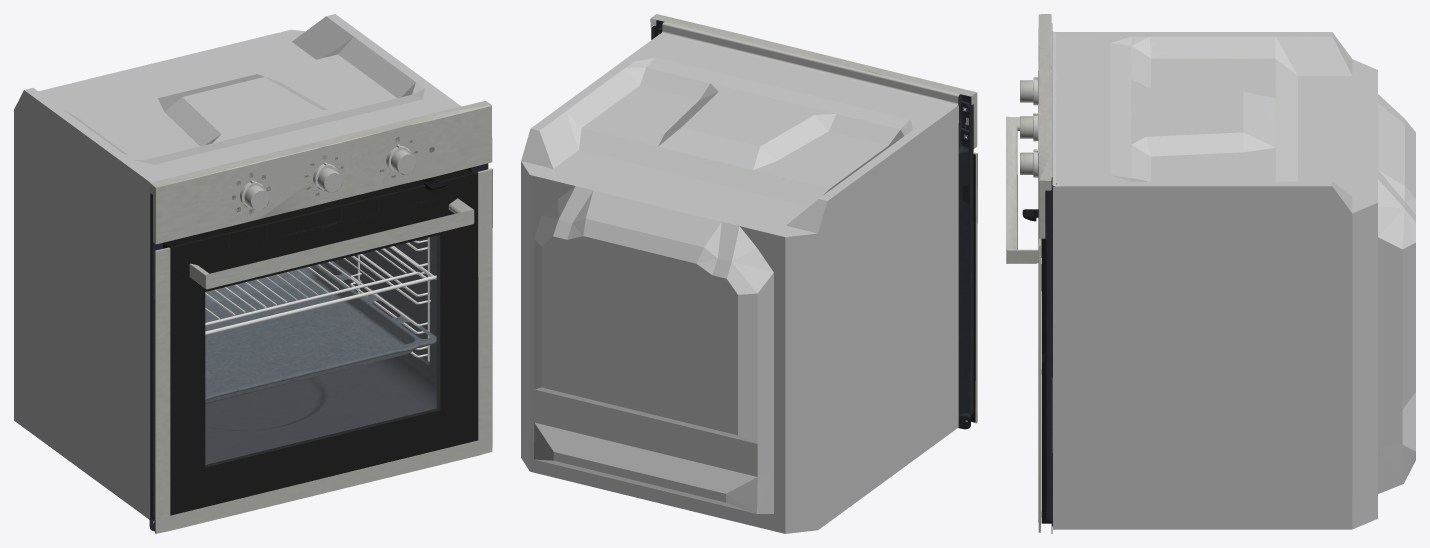
The model's file is MATÄLSKARE Horkovzdušná trouba - barva nerezavějící oceli (40368765).glb.
The picture shows the model from 3 angles, left to right: view 1: azimuth 30°, elevation 25°; view 2: azimuth 150°, elevation 25°; view 3: azimuth 270°, elevation 25°; orthographic projection. The views are drawn at different scales.
Visible parts, largest first — view 1: 40368765-MATÃƒâ€žLSKARE001; view 2: 40368765-MATÃƒâ€žLSKARE001; view 3: 40368765-MATÃƒâ€žLSKARE001.
Boxes of the visible parts, box(x1,y1,x2,y2) form: 40368765-MATÃƒâ€žLSKARE001: box(14, 14, 492, 533); 40368765-MATÃƒâ€žLSKARE001: box(521, 14, 977, 533); 40368765-MATÃƒâ€žLSKARE001: box(1006, 14, 1415, 533).
Bounding box in the file's own units: 0.596 × 0.5957 × 0.6174.
2 materials, 2 textured.
